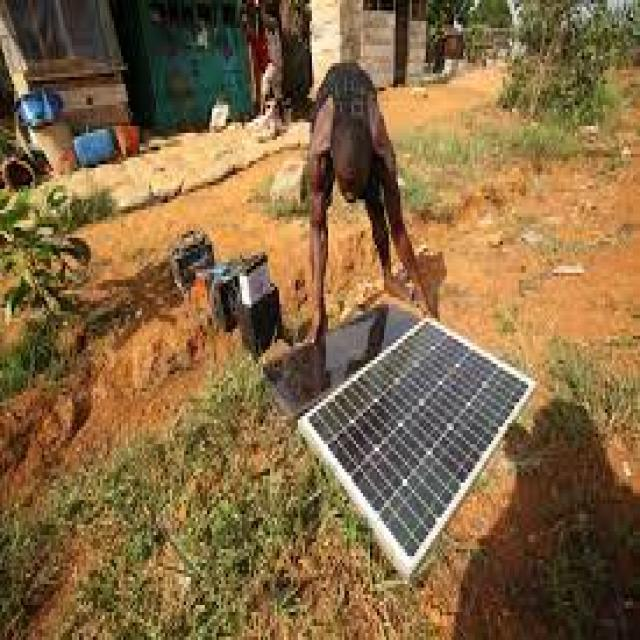no faulty: (303, 320, 527, 569)
